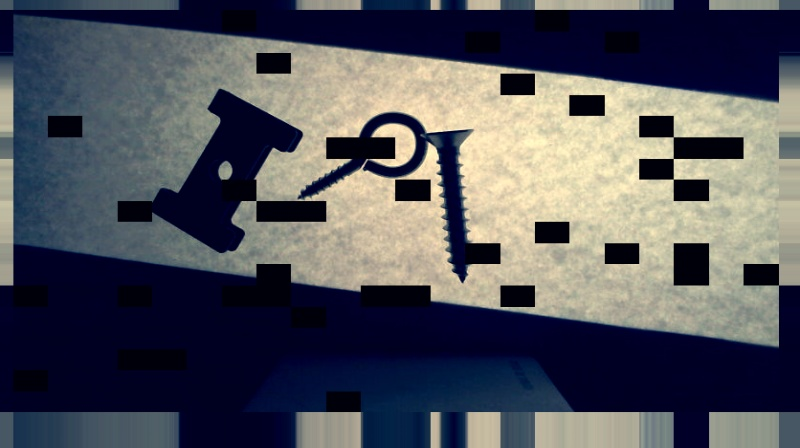O001: (294, 111, 429, 201)
O002: (148, 85, 300, 257)
S001: (419, 125, 476, 283)
